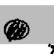correct: (3, 17, 30, 42)
